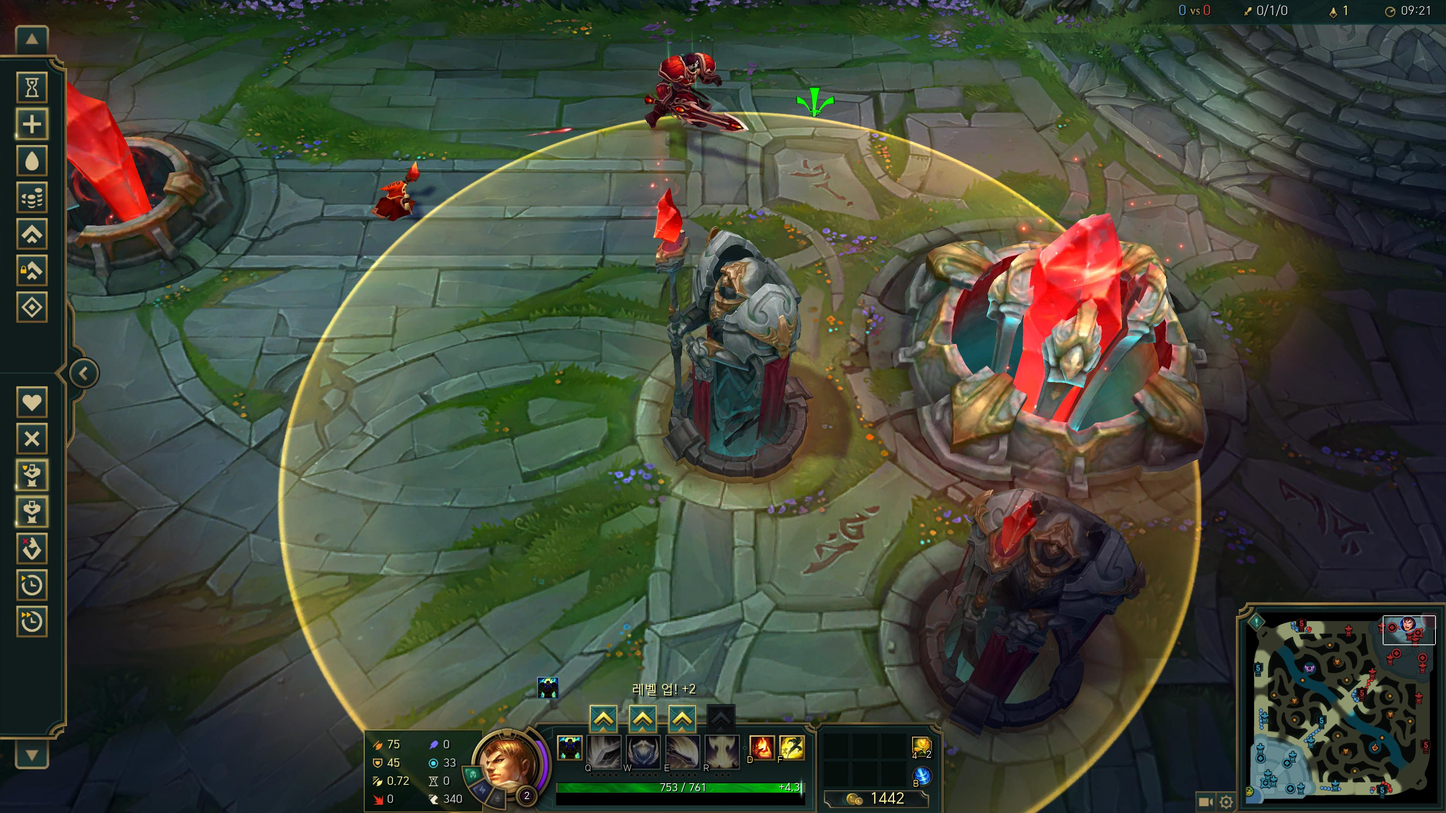enemy-inhibitor: (69, 86, 276, 298)
enemy-nexus: (849, 213, 1249, 488)
enemy-tower: (921, 488, 1147, 733), (638, 225, 814, 481)
